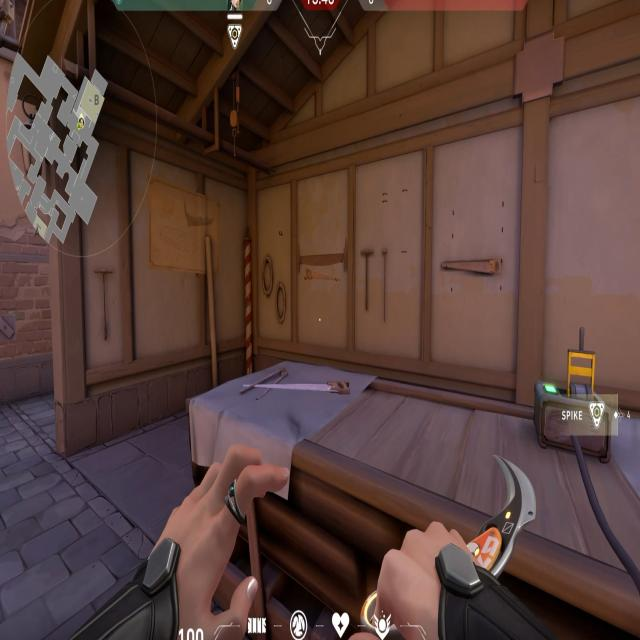B_Garage_Left: (19, 93, 432, 604)
